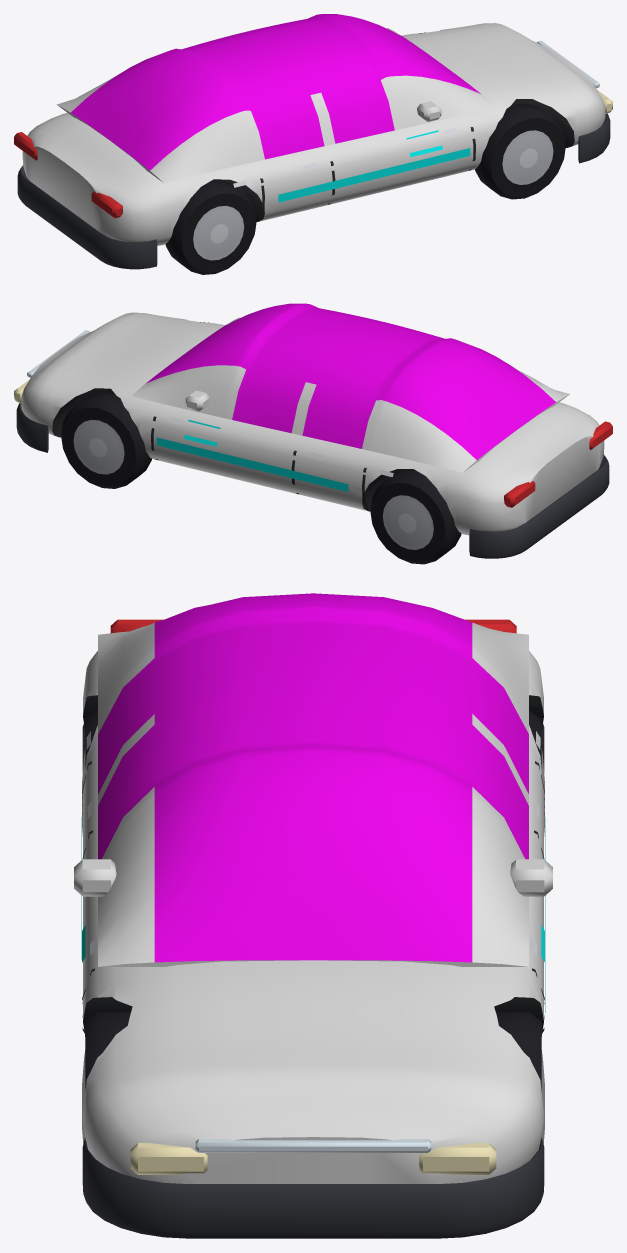
3 renders of one model, top to bottom at view 1: azimuth 30°, elevation 25°; view 2: azimuth 150°, elevation 25°; view 3: azimuth 270°, elevation 25°, orthographic. The views are drawn at different scales.
Parts seen in each view (by area): view 1: LOD0; view 2: LOD0; view 3: LOD0.
Boxes of the visible parts, x1,y1,x2,y2 form: LOD0: [14, 14, 612, 274]; LOD0: [14, 303, 612, 564]; LOD0: [74, 593, 552, 1238].
Size of what is drawn, in the model's own units: 4.71 by 1.43 by 1.91.
